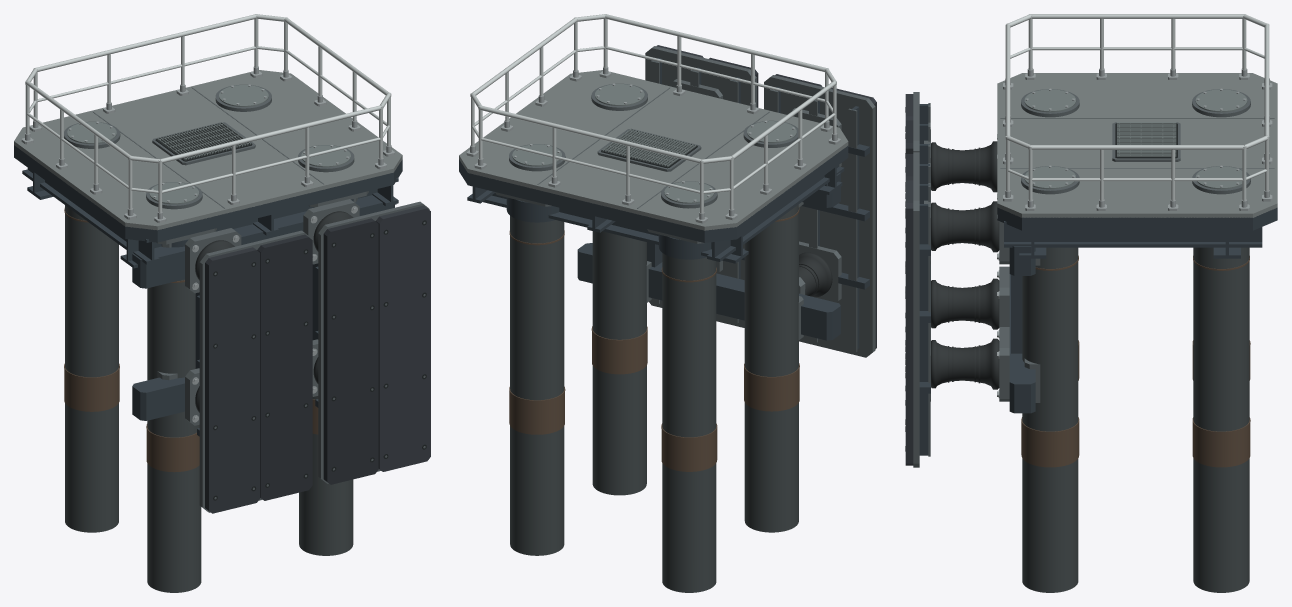
File: ferry_dolphin_small.glb
3 renders of one model, left to right at view 1: azimuth 30°, elevation 25°; view 2: azimuth 150°, elevation 25°; view 3: azimuth 270°, elevation 25°, orthographic. The views are drawn at different scales.
Visible parts, largest first — view 1: Fender 01, Flat steel working deck, Fender 02, Pile 03, Pile 01, Galvanized two-rail perimeter, Reaction beams and deck framing, Pile caps and inspection gratings, Pile 02; view 2: Flat steel working deck, Pile 03, Pile 04, Pile 01, Fender 01, Pile 02, Galvanized two-rail perimeter, Reaction beams and deck framing, Pile caps and inspection gratings, Fender 02; view 3: Flat steel working deck, Pile 04, Pile 02, Fender 02, Galvanized two-rail perimeter, Reaction beams and deck framing, Fender 01, Pile caps and inspection gratings.
Part boxes in pixels (x1=…): Fender 01: x1=185, y1=228, x2=312, y2=513; Flat steel working deck: x1=14, y1=70, x2=402, y2=242; Fender 02: x1=303, y1=199, x2=430, y2=484; Pile 03: x1=64, y1=205, x2=119, y2=532; Pile 01: x1=146, y1=228, x2=216, y2=592; Galvanized two-rail perimeter: x1=21, y1=14, x2=394, y2=222; Reaction beams and deck framing: x1=22, y1=168, x2=398, y2=420; Pile caps and inspection gratings: x1=64, y1=84, x2=354, y2=209; Pile 02: x1=299, y1=191, x2=368, y2=555; Flat steel working deck: x1=459, y1=70, x2=848, y2=242; Pile 03: x1=647, y1=229, x2=717, y2=592; Pile 04: x1=495, y1=192, x2=565, y2=555; Pile 01: x1=744, y1=204, x2=799, y2=532; Fender 01: x1=764, y1=74, x2=876, y2=357; Pile 02: x1=591, y1=231, x2=647, y2=495; Galvanized two-rail perimeter: x1=466, y1=14, x2=840, y2=223; Reaction beams and deck framing: x1=467, y1=165, x2=844, y2=340; Pile caps and inspection gratings: x1=509, y1=83, x2=798, y2=208; Fender 02: x1=645, y1=45, x2=758, y2=327; Flat steel working deck: x1=997, y1=73, x2=1277, y2=230; Pile 04: x1=1192, y1=247, x2=1250, y2=592; Pile 02: x1=1021, y1=247, x2=1079, y2=592; Fender 02: x1=905, y1=152, x2=1009, y2=467; Galvanized two-rail perimeter: x1=1003, y1=14, x2=1272, y2=210; Reaction beams and deck framing: x1=1004, y1=221, x2=1262, y2=413; Fender 01: x1=905, y1=92, x2=1009, y2=390; Pile caps and inspection gratings: x1=1021, y1=88, x2=1250, y2=194.
Bounding box in the file's own units: 5.15 × 7.91 × 5.77.
